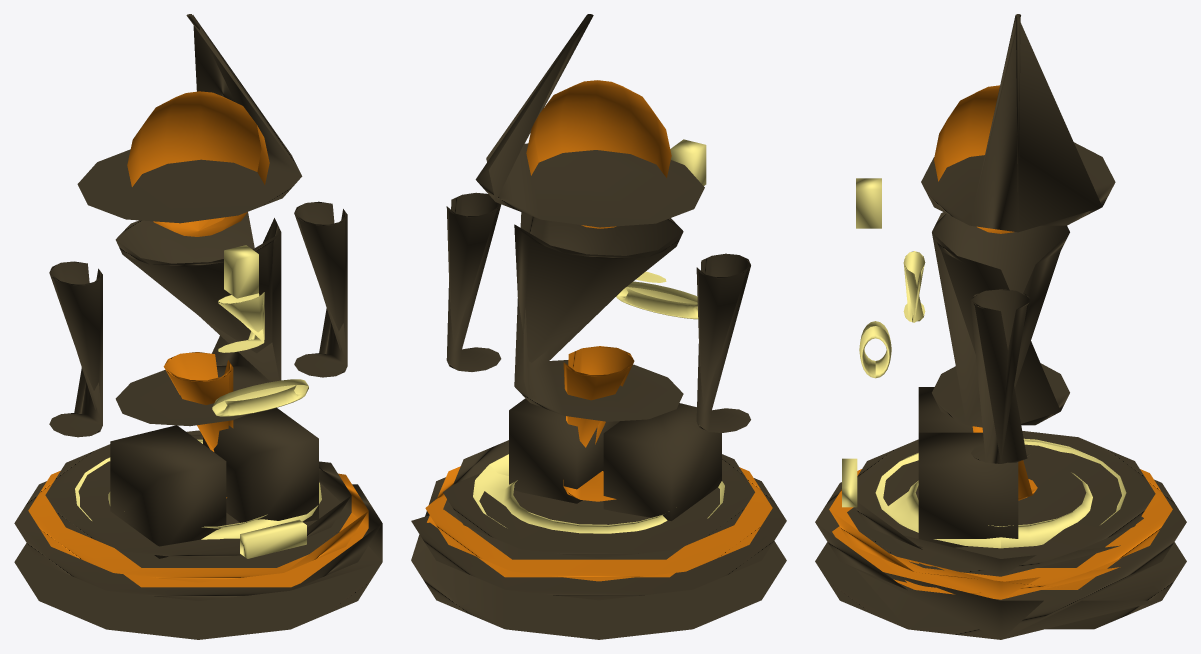
File: low_flame.glb
The picture shows the model from 3 angles, left to right: view 1: azimuth 30°, elevation 25°; view 2: azimuth 150°, elevation 25°; view 3: azimuth 270°, elevation 25°; orthographic projection. The views are drawn at different scales.
Visible parts, largest first — view 1: low_flame_#3C3321, low_flame_#D97706, low_flame_#FEF08A; view 2: low_flame_#3C3321, low_flame_#D97706, low_flame_#FEF08A; view 3: low_flame_#3C3321, low_flame_#D97706, low_flame_#FEF08A.
Part boxes in pixels (left/top/right/bottom): low_flame_#3C3321: left=14, top=14, right=382, bottom=639; low_flame_#D97706: left=28, top=91, right=368, bottom=587; low_flame_#FEF08A: left=75, top=245, right=321, bottom=558; low_flame_#3C3321: left=411, top=14, right=786, bottom=639; low_flame_#D97706: left=425, top=80, right=772, bottom=581; low_flame_#FEF08A: left=473, top=139, right=724, bottom=533; low_flame_#3C3321: left=815, top=14, right=1186, bottom=639; low_flame_#D97706: left=829, top=85, right=1172, bottom=599; low_flame_#FEF08A: left=842, top=178, right=1126, bottom=548.
Size of the model in its own units: 1.72 by 2.79 by 1.72.
